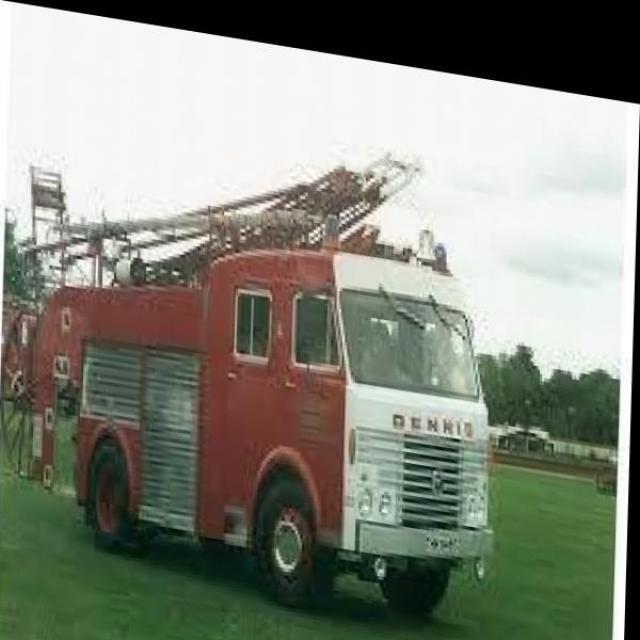emergency: (1, 154, 497, 616)
